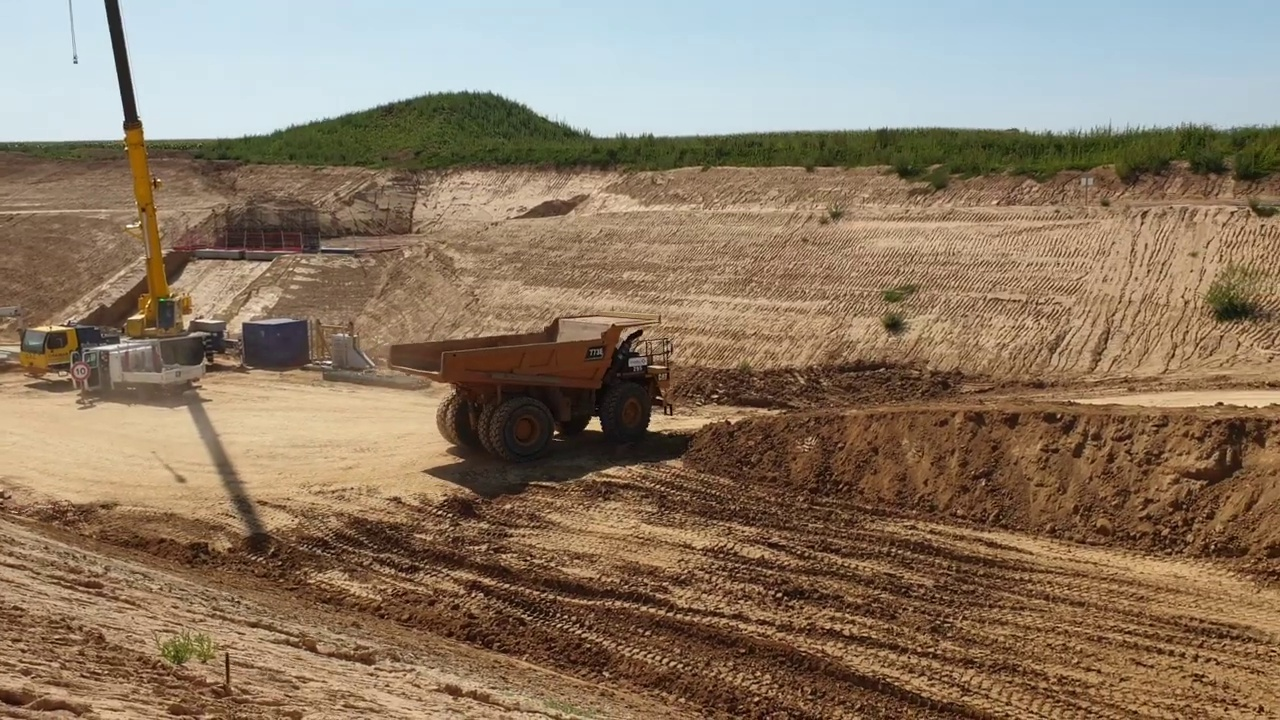crane: (17, 1, 216, 407)
truck: (387, 310, 680, 465)
